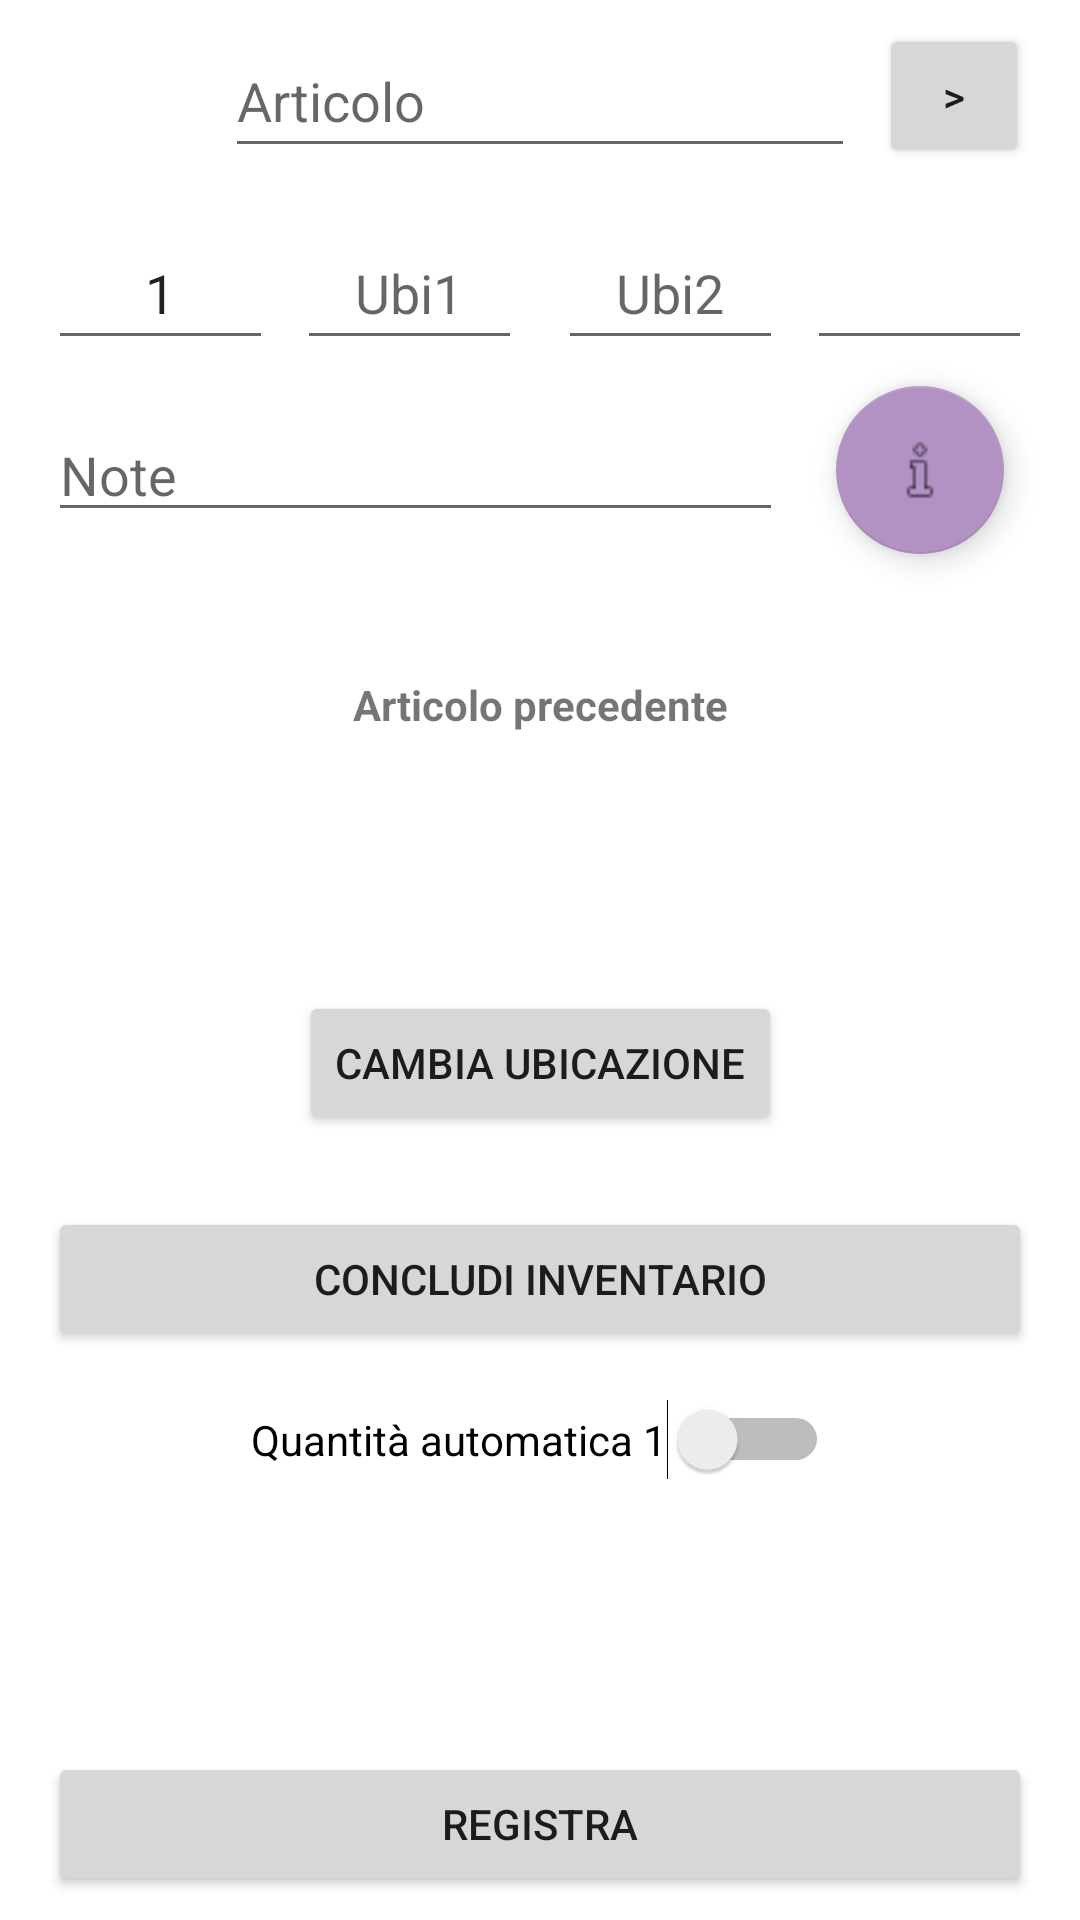

Icons on this 1080x1920 Android screen, each with its box as (x1, y1, x2, y2):
iconsinformation: (836, 386, 1004, 554)
